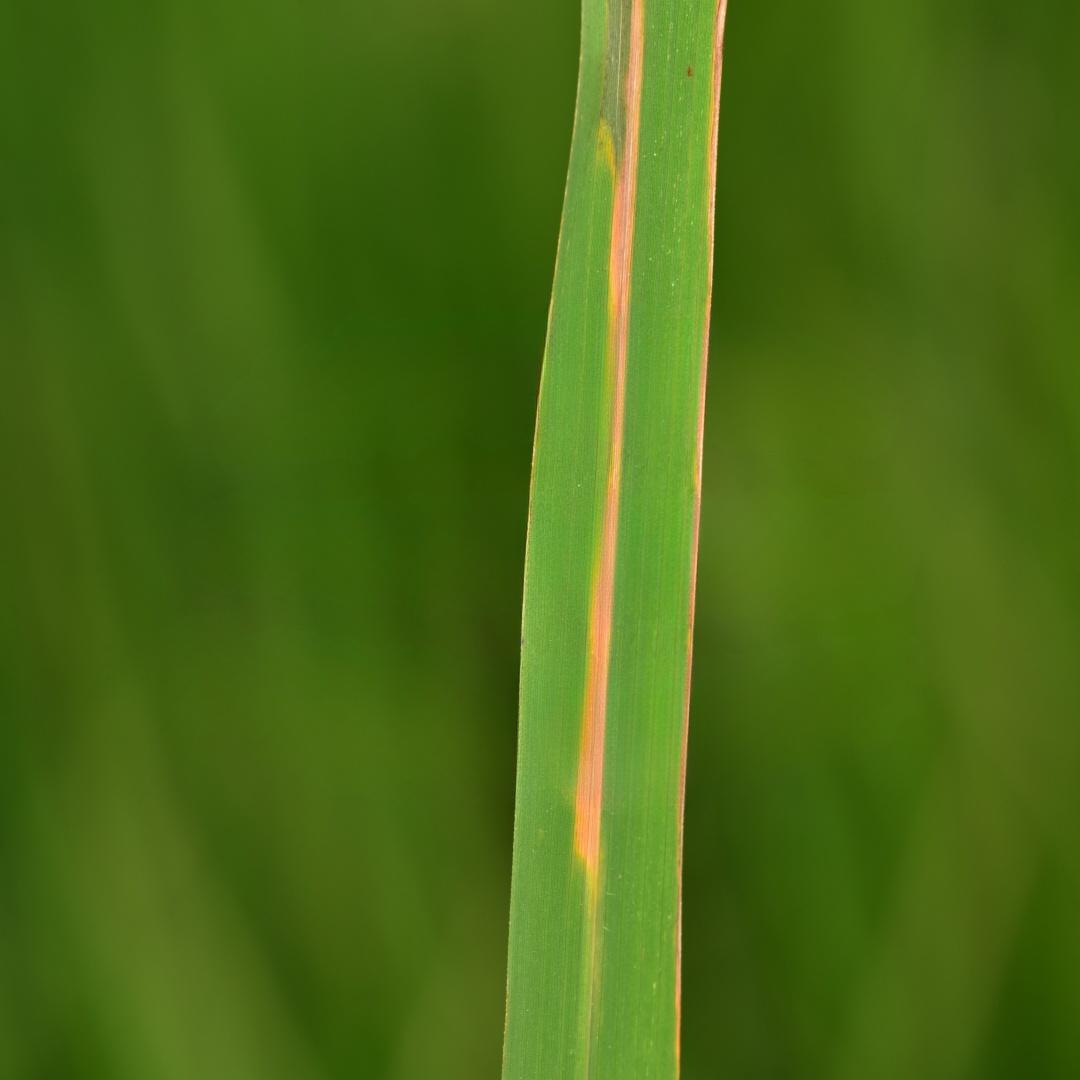BLB: (573, 0, 645, 879)
LEAF: (502, 0, 727, 1079)
